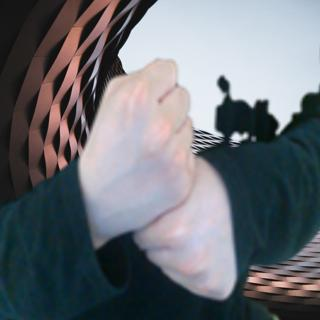CAREFUL: (78, 50, 242, 311)
